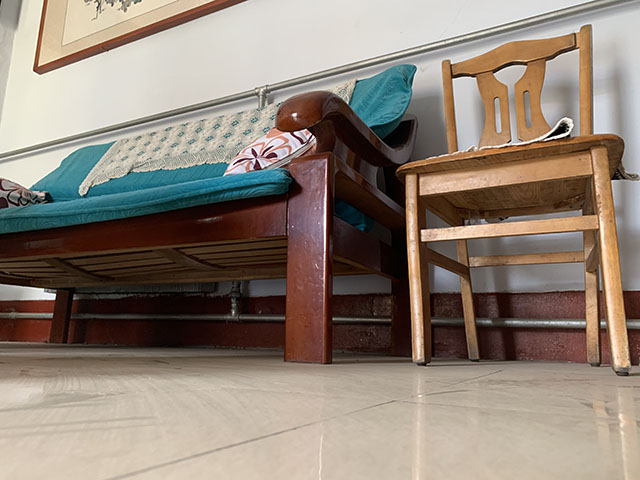sofa: (1, 60, 419, 365)
stool: (394, 21, 640, 377)
